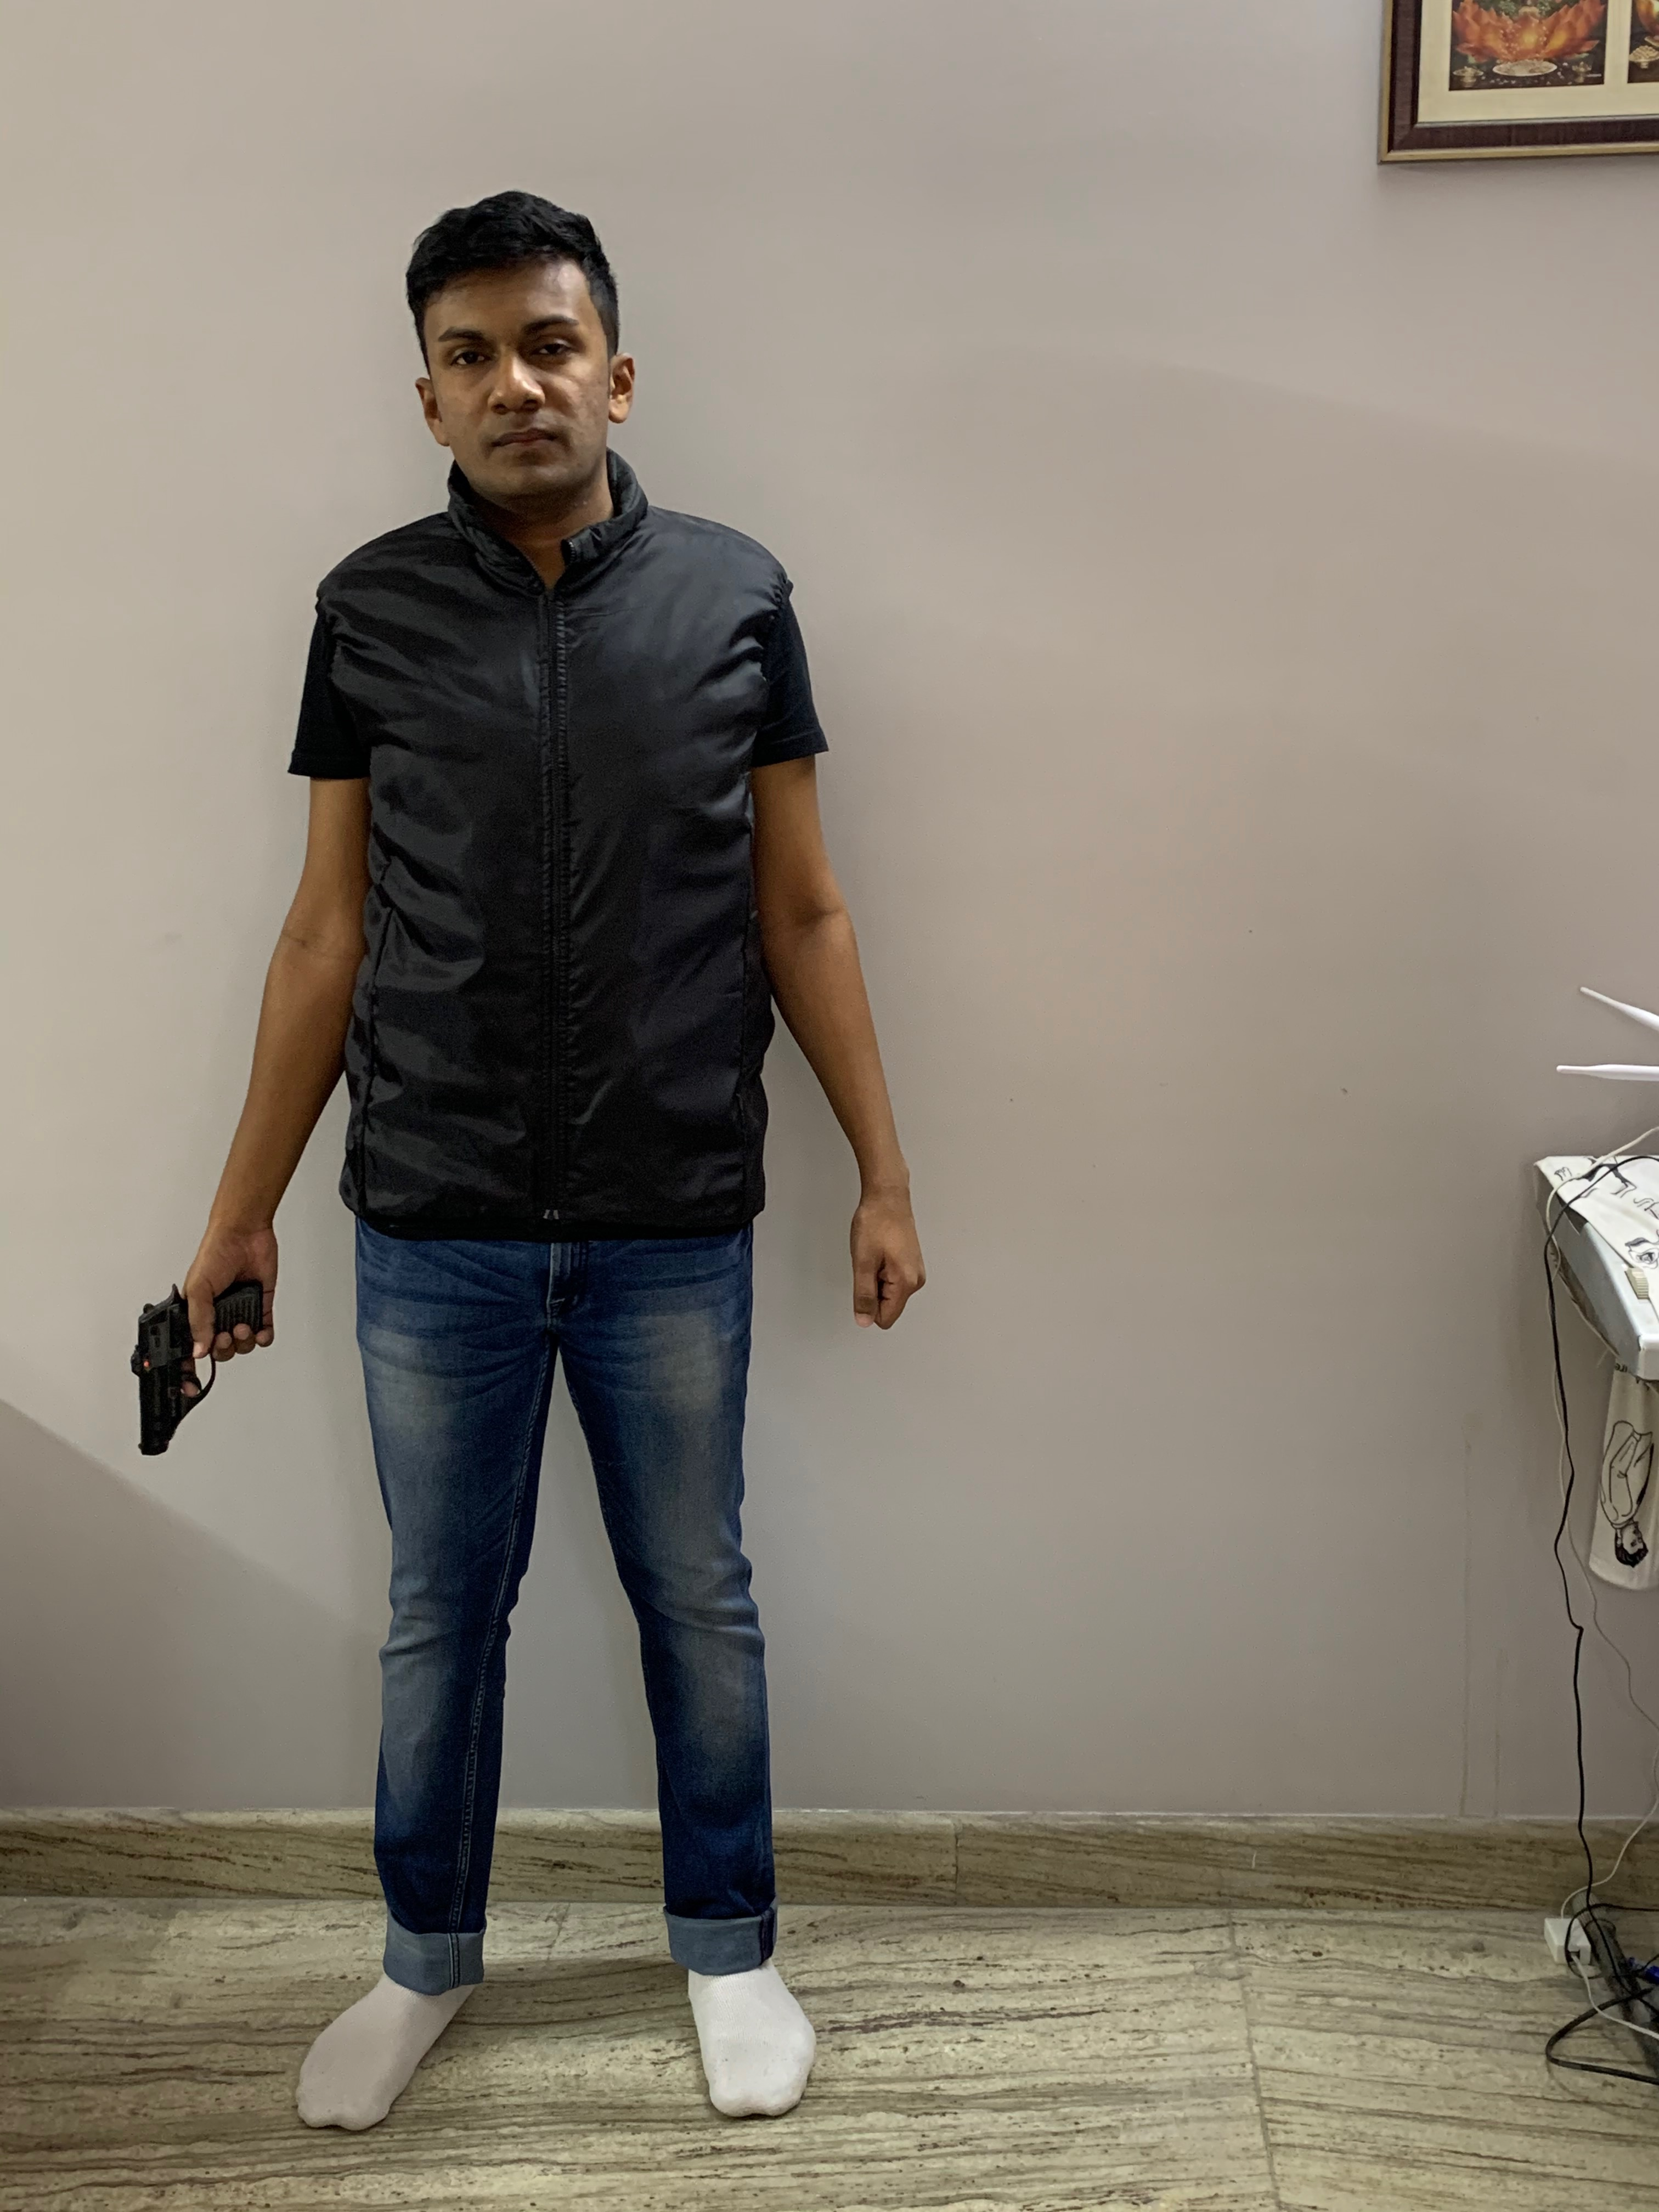gun: (125, 1282, 274, 1461)
